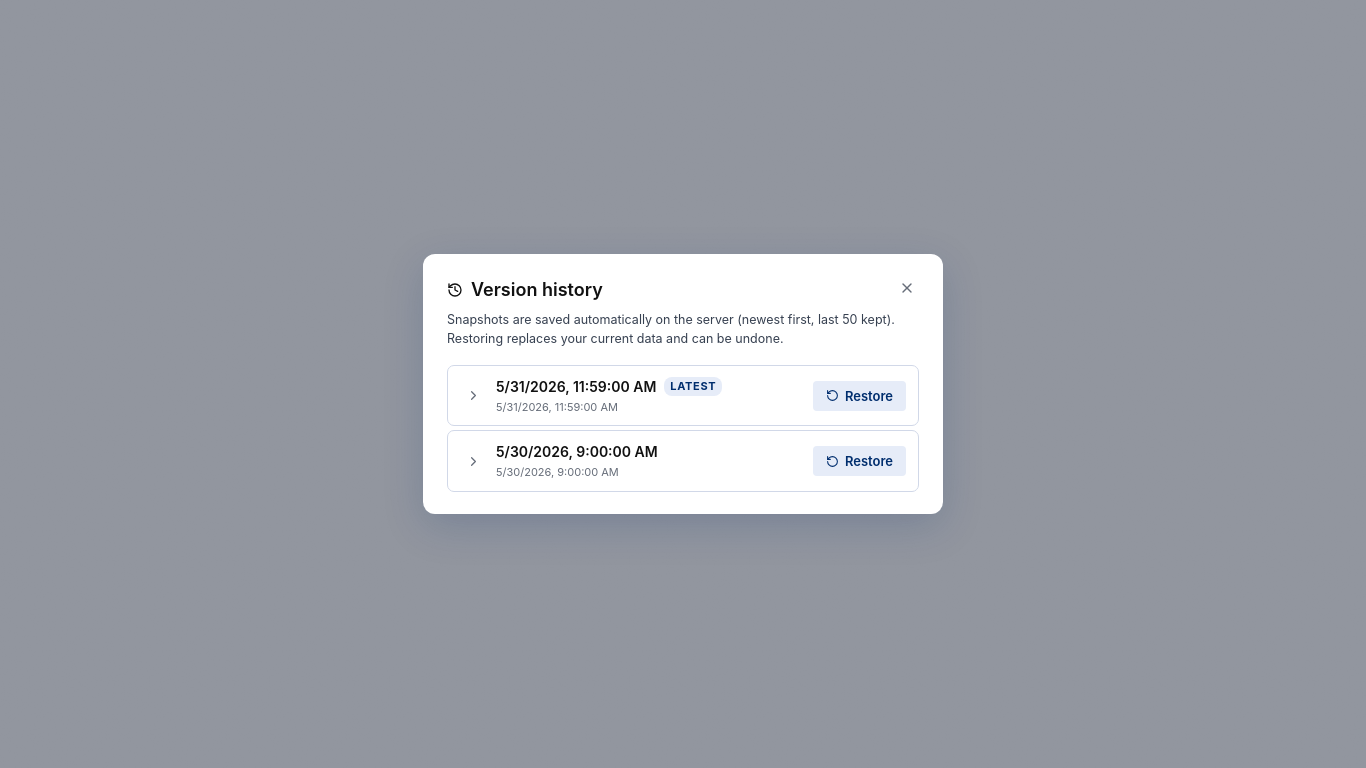
Test: <SnapshotHistory> › expands a row to show what changed vs the previous snapshot
The width and height of the screenshot is (1366, 768).
# Expand the latest (id 2) row → diffs against the older (id 1).
What coordinates should you click on to do the following:
click the button named "show what changed" in the row of "latest"
I would click on:
 (473, 396)
Its box is [460,382,486,408].
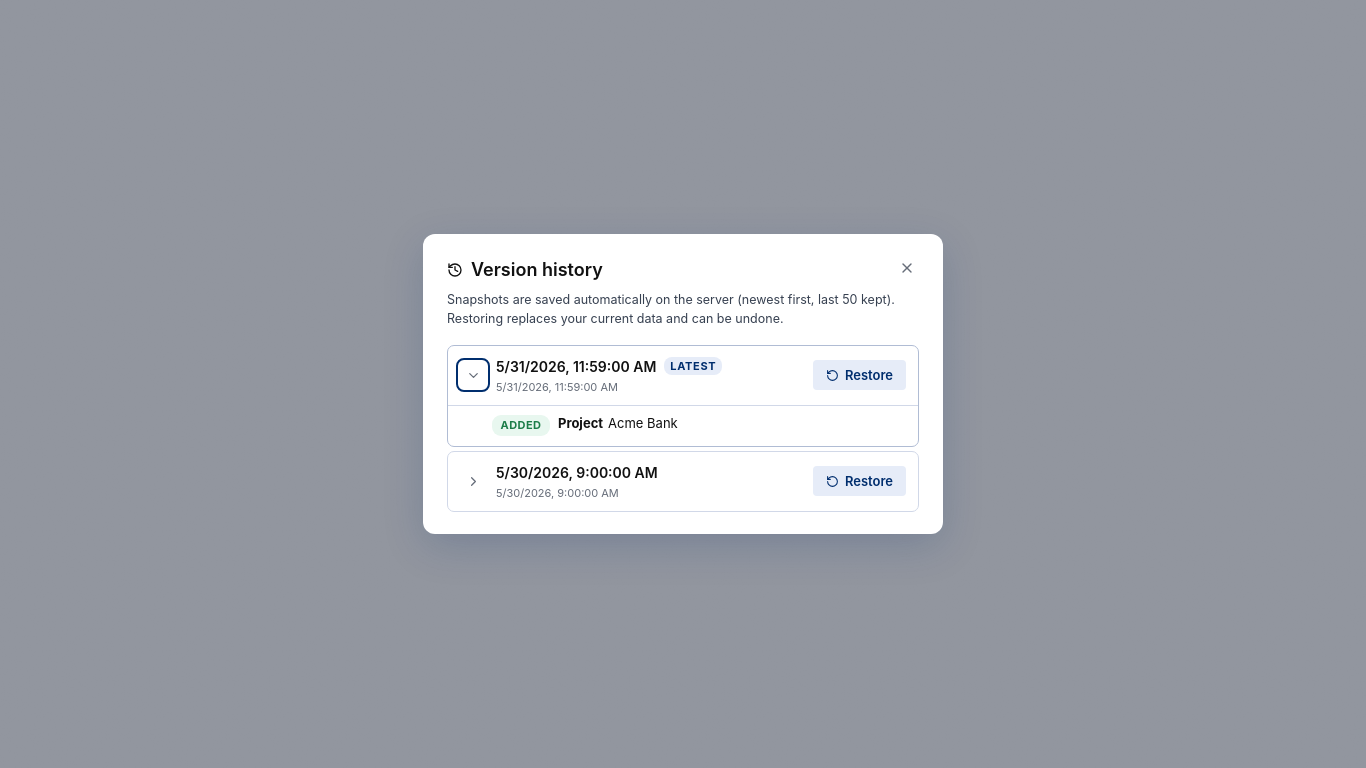
Now the text "Acme Bank" is shown, box [608,415,678,431]
Now the text "Added" is shown, box [492,415,550,436]
